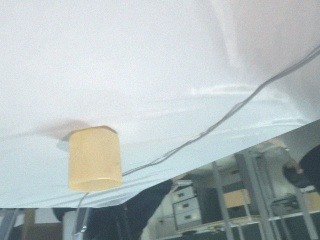cup: (67, 125, 123, 193)
